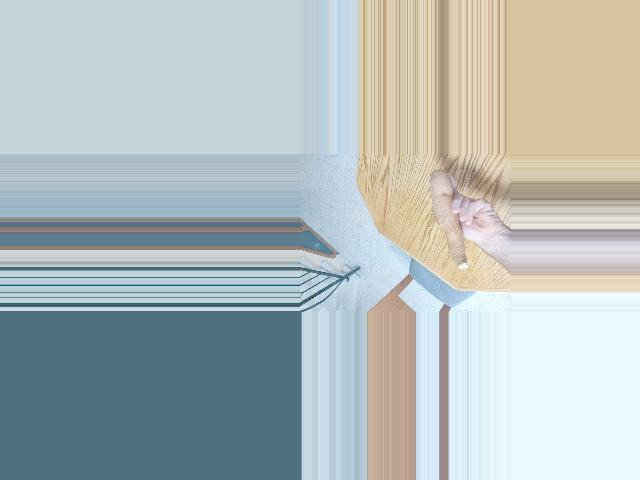sweet_potato: (428, 168, 471, 270)
